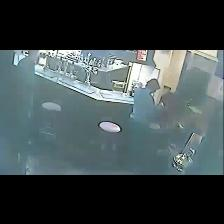person: (129, 79, 159, 172), (16, 50, 38, 138)
